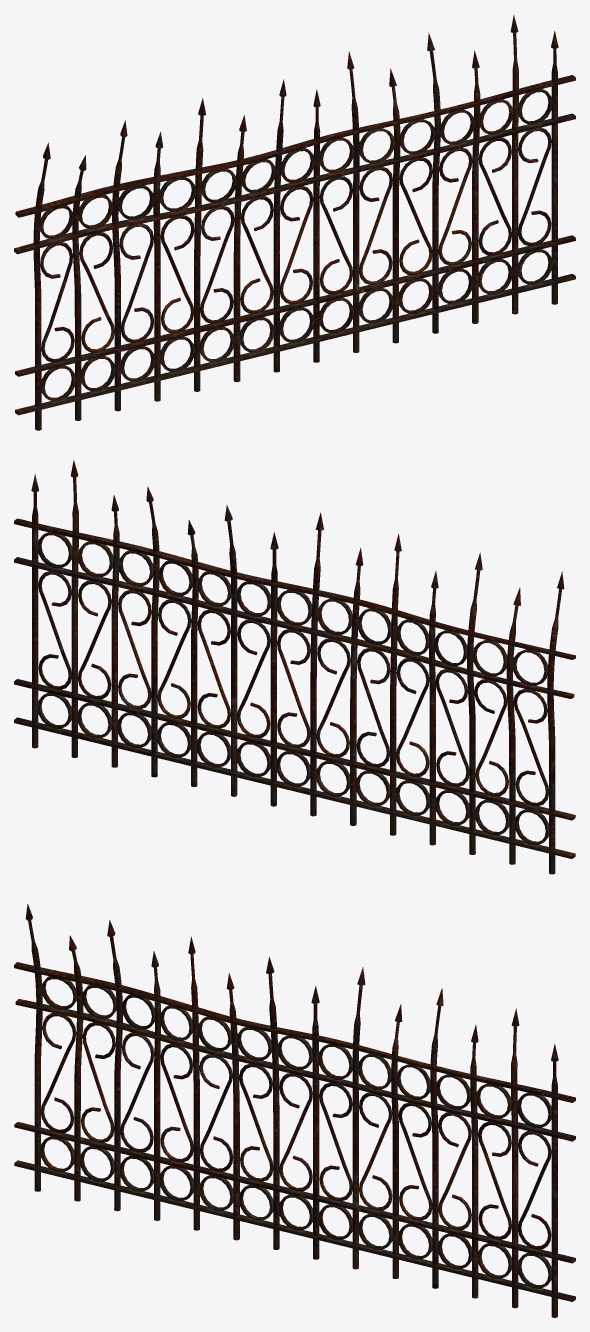
Rendered from SM_fence_13.fbx.
3 views of the same model, one above another, from view 1: azimuth 30°, elevation 25°; view 2: azimuth 150°, elevation 25°; view 3: azimuth 330°, elevation 25° (orthographic).
Parts seen in each view (by area): view 1: SM_fence_13; view 2: SM_fence_13; view 3: SM_fence_13.
Boxes of the visible parts, x1,y1,x2,y2 form: SM_fence_13: (14,15,575,430); SM_fence_13: (14,460,575,874); SM_fence_13: (14,904,575,1317).
Bounding box in the file's own units: 260 × 133 × 14.22.
